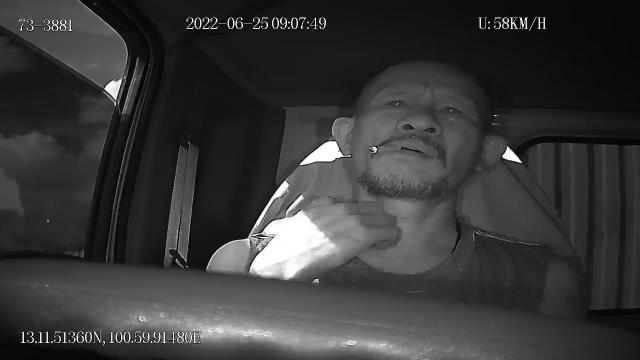SafeDriving: (433, 97, 469, 124), (378, 90, 416, 115)
Smoking: (371, 143, 402, 153)
